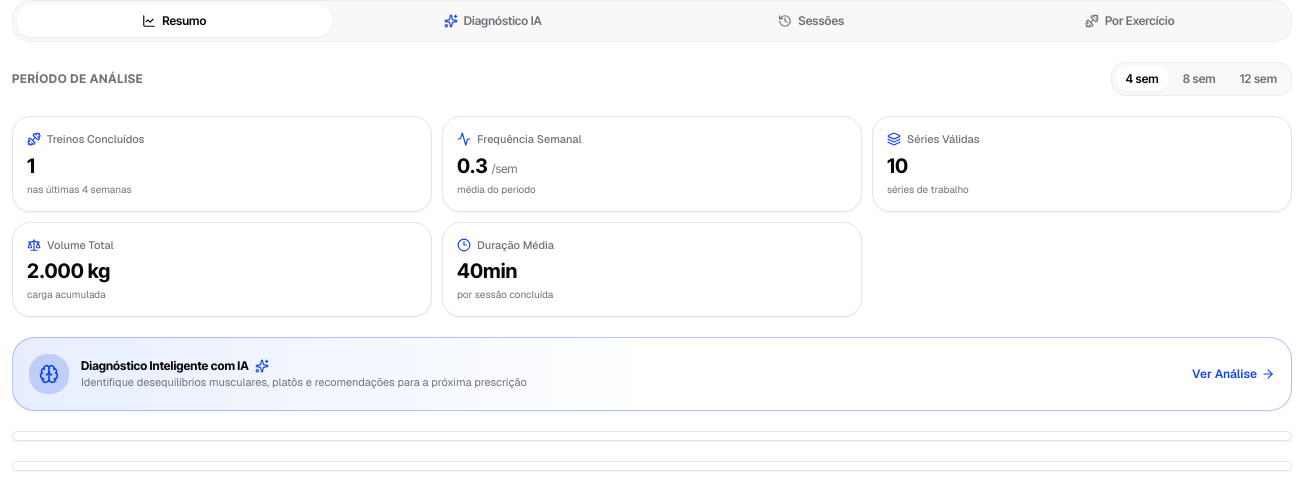
Test: TASK 6.3 — Coach Athlete Progress & Training History UI › 2. Painel de Evolução do Treinador (CoachAthleteEvolutionDashboard) › permite alternar para a aba Sessões e listar treinos concluídos
Expected: the text "Treinos Concluídos" is shown, [47, 131, 144, 148]
Step 1. Click the button "Sessões" → (811, 21), box [654, 5, 968, 37]
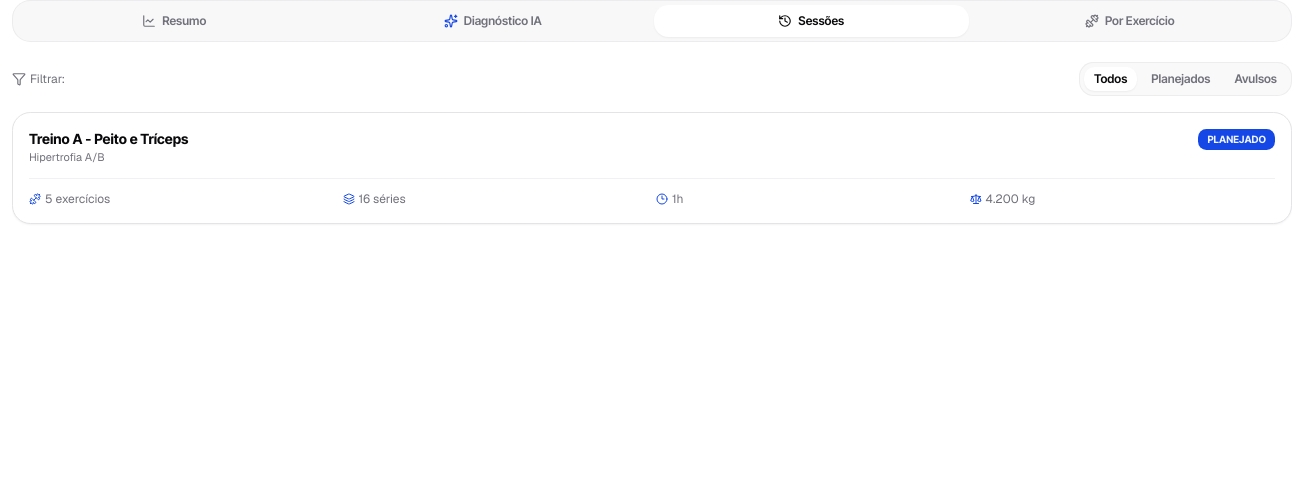
Now the heading "Treino A - Peito e Tríceps" is shown, box [29, 129, 188, 149]
Now the text "16 séries" is shown, box [358, 190, 406, 206]
